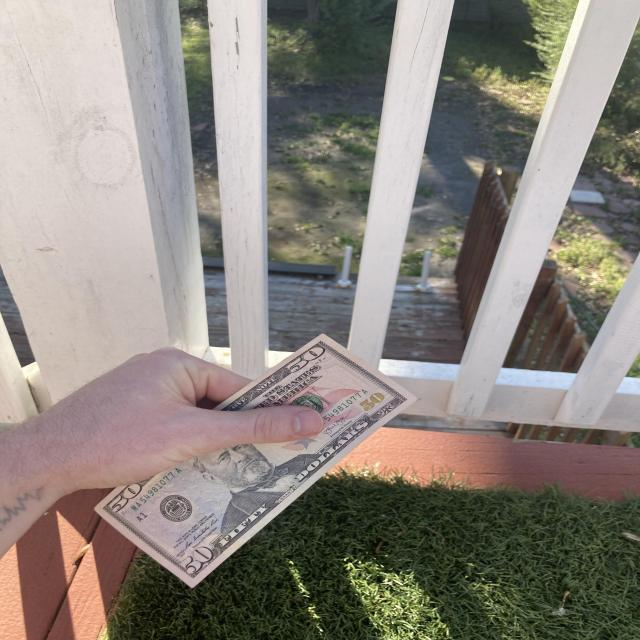fifty: (91, 302, 419, 604)
